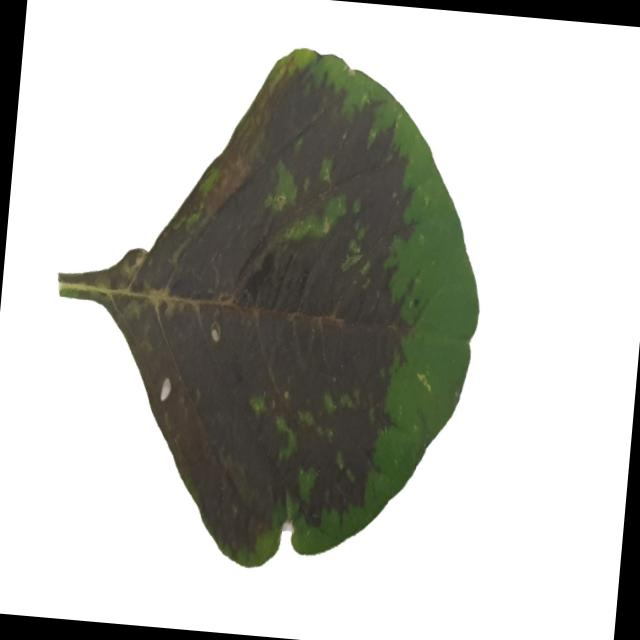Medicinal-Arive Dantu: (33, 24, 500, 586)
